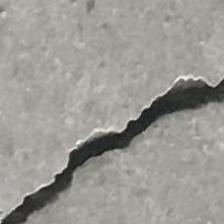Crack: (2, 63, 224, 224)
